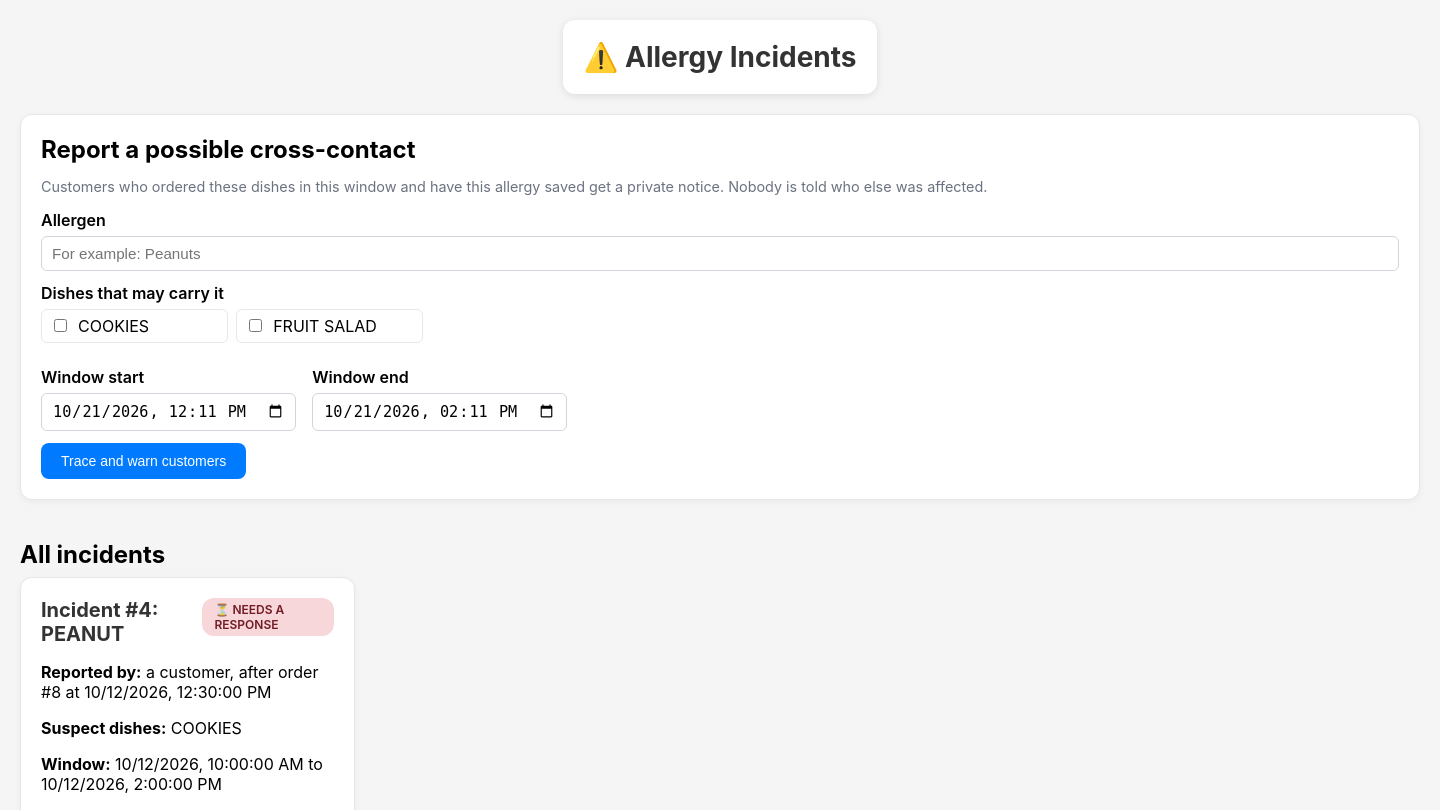
it: AllergyIncidents › reports an incident and shows the counts
This screenshot has width=1440, height=810.
Type "Peanuts" into the field with placeholder "For example: Peanuts" at (720, 253), box [41,236,1399,271]
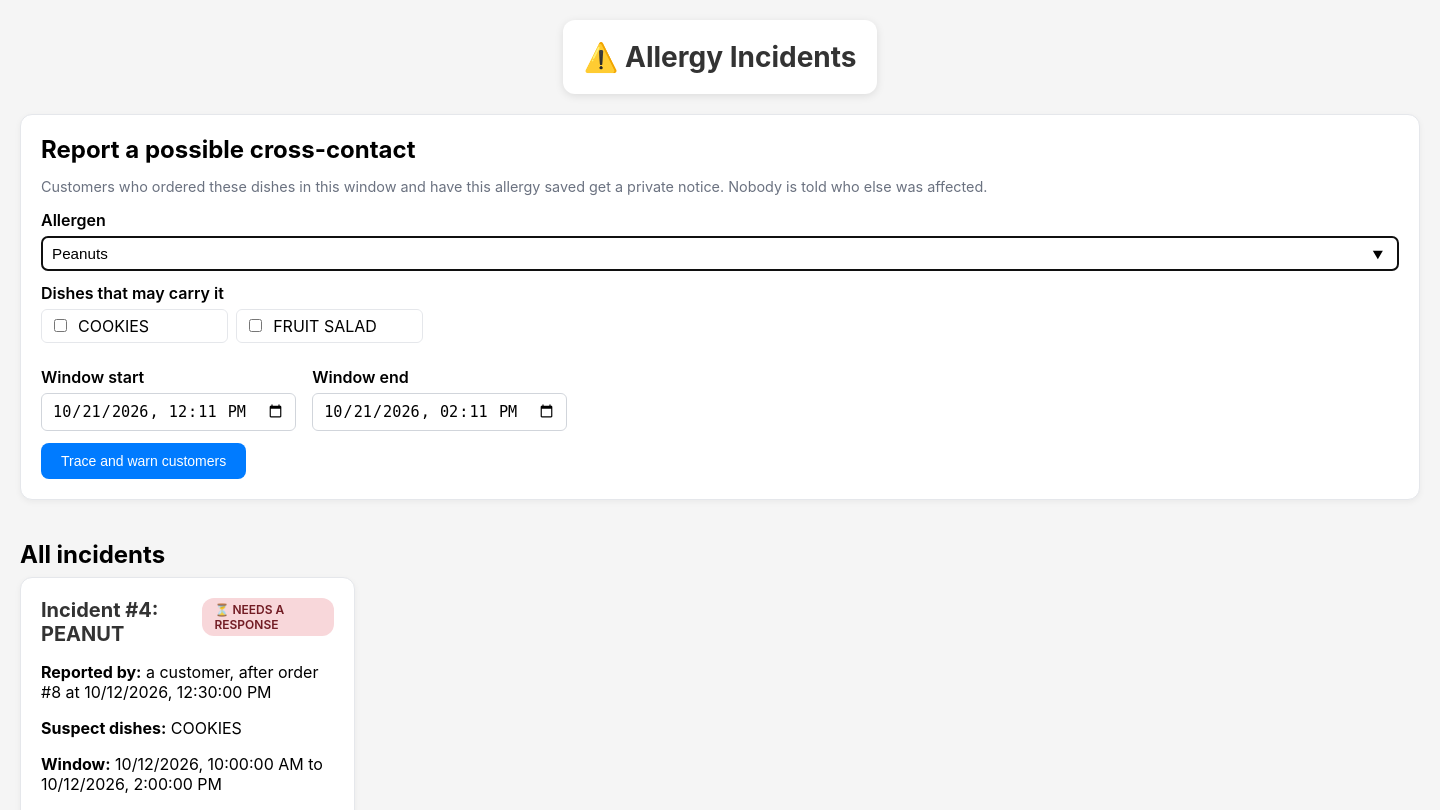
Click the checkbox labelled "COOKIES" at (60, 326), box [54,319,67,332]
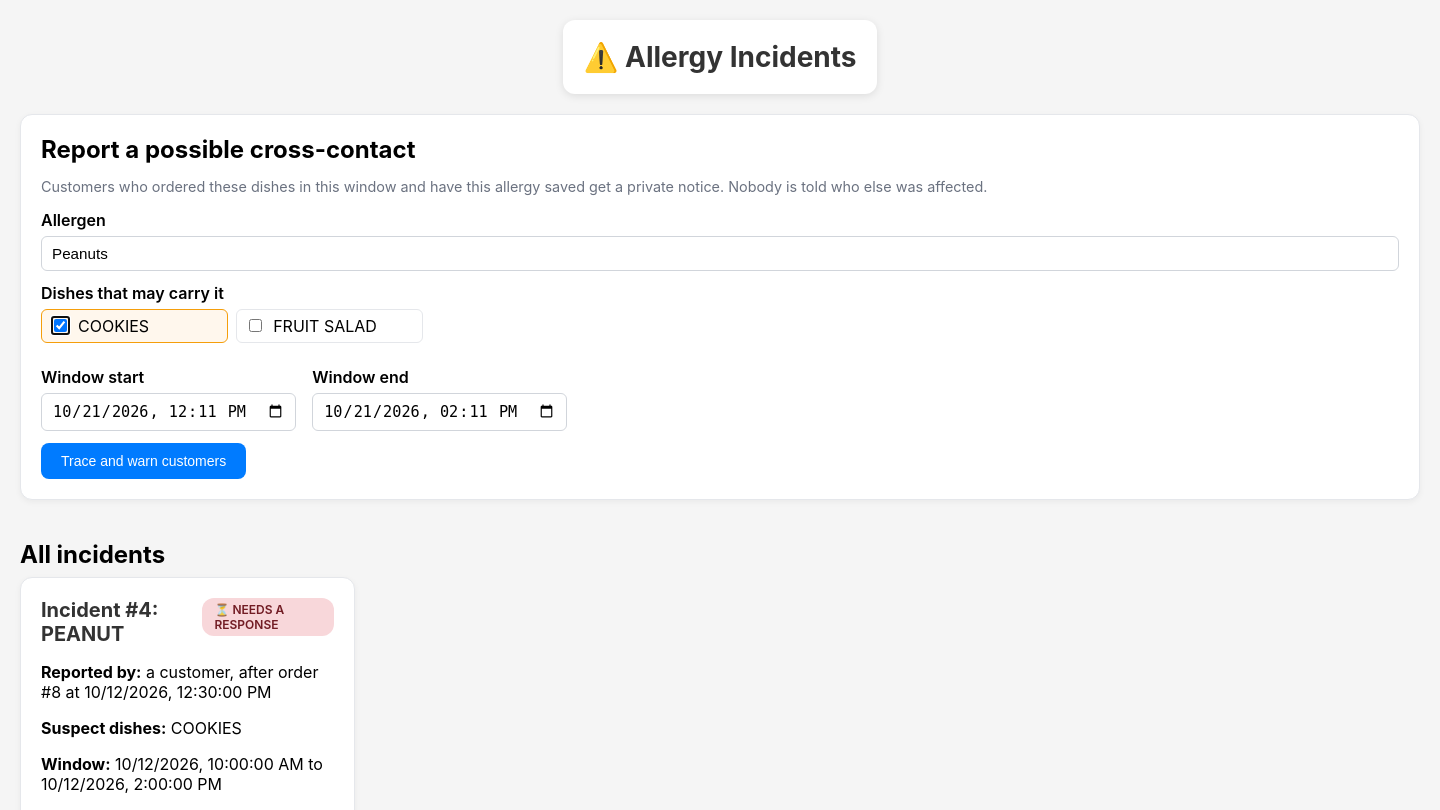
Click the button "Trace and warn customers" at (144, 461), box [41,443,246,479]
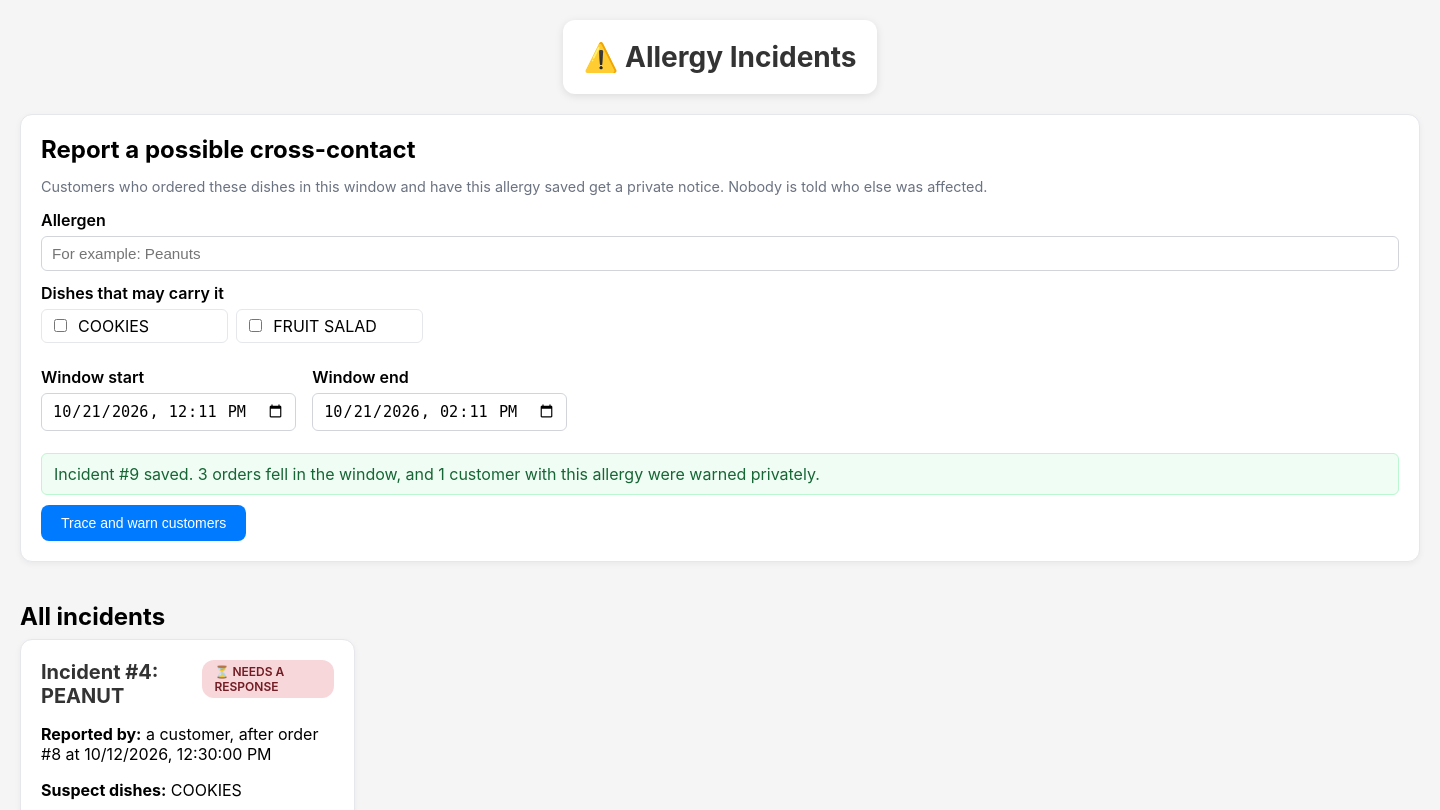
Now the text "Incident #9 saved. 3 orders fell in the window, and 1 customer" is shown, box [54,464,820,484]
